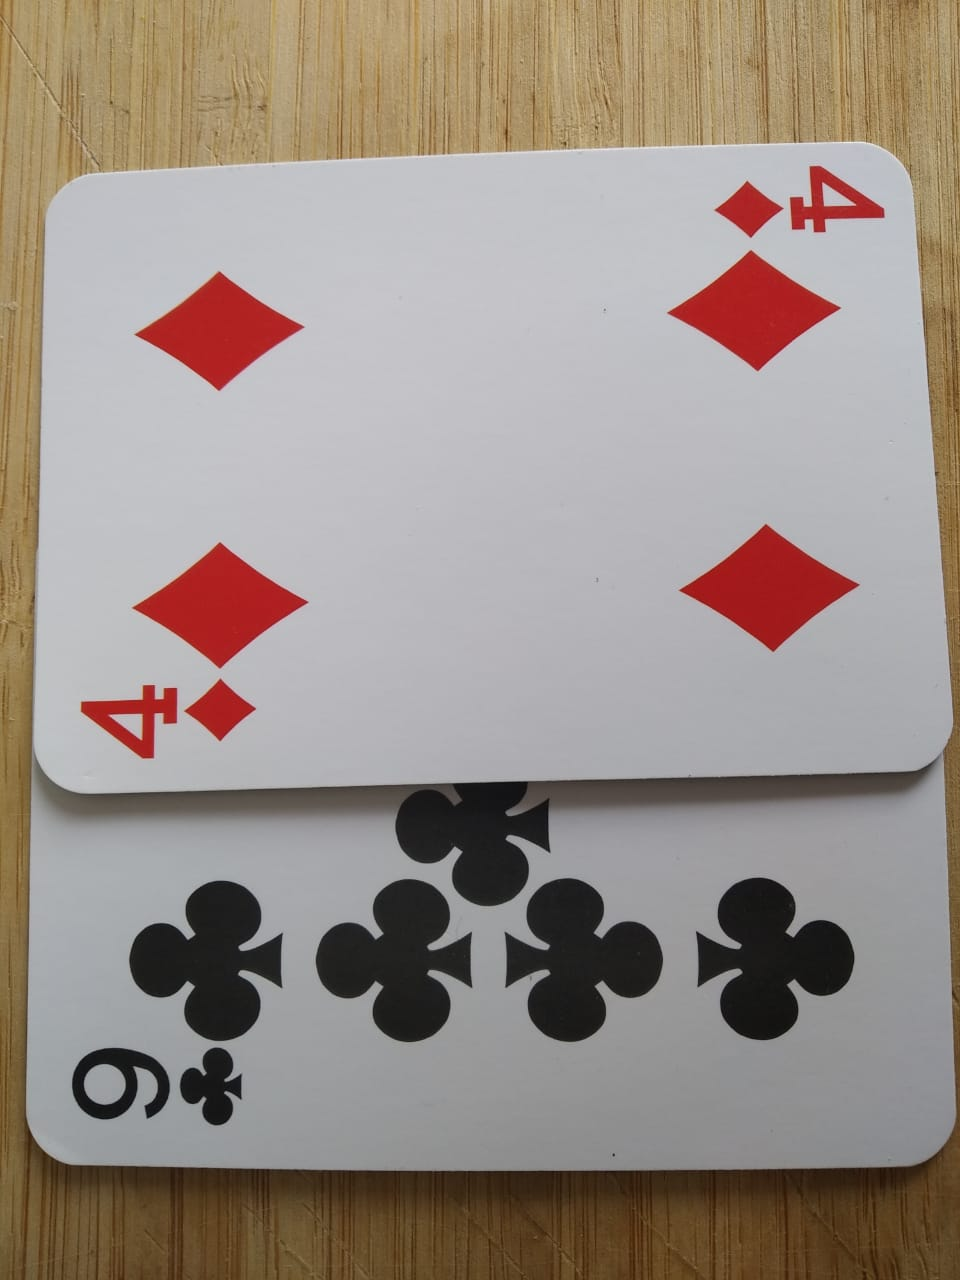four: (16, 127, 960, 808)
nine: (7, 643, 960, 1189)
